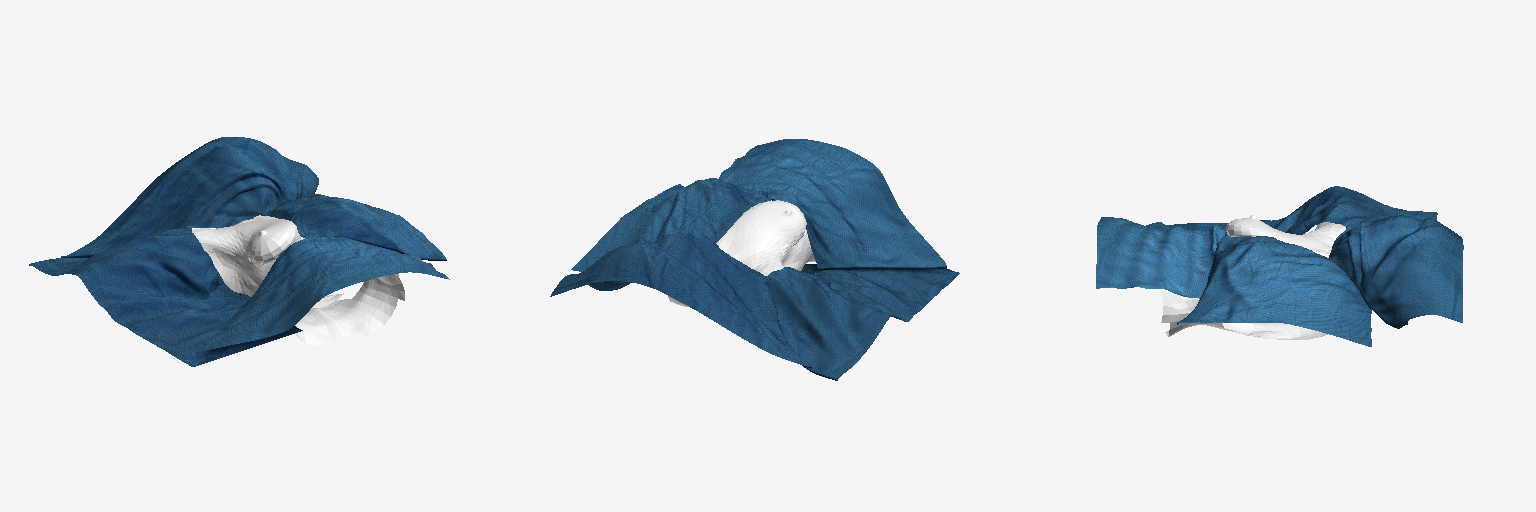
3 views of the same model, side by side, from view 1: azimuth 30°, elevation 25°; view 2: azimuth 150°, elevation 25°; view 3: azimuth 270°, elevation 25° (orthographic).
Visible parts, largest first — view 1: Drape04, Drape01, Drape03, body, Drape02; view 2: Drape03, Drape04, Drape01, Drape02, body; view 3: Drape02, Drape01, Drape03, body, Drape04.
Part boxes in pixels (x1,y1,x2,y2): Drape04: (29, 227, 302, 366); Drape01: (61, 137, 318, 257); Drape03: (196, 237, 449, 355); body: (192, 215, 404, 344); Drape02: (267, 194, 446, 260); Drape03: (719, 139, 946, 269); Drape04: (768, 267, 959, 380); Drape01: (550, 231, 811, 367); Drape02: (571, 178, 773, 271); body: (668, 200, 815, 306); Drape02: (1177, 236, 1371, 346); Drape01: (1329, 215, 1463, 328); Drape03: (1096, 217, 1225, 298); body: (1161, 215, 1345, 339); Drape04: (1167, 186, 1437, 235).
Size of the model in its own units: 57.88 by 20.17 by 60.72.
Materials: 6 (5 with a texture image).